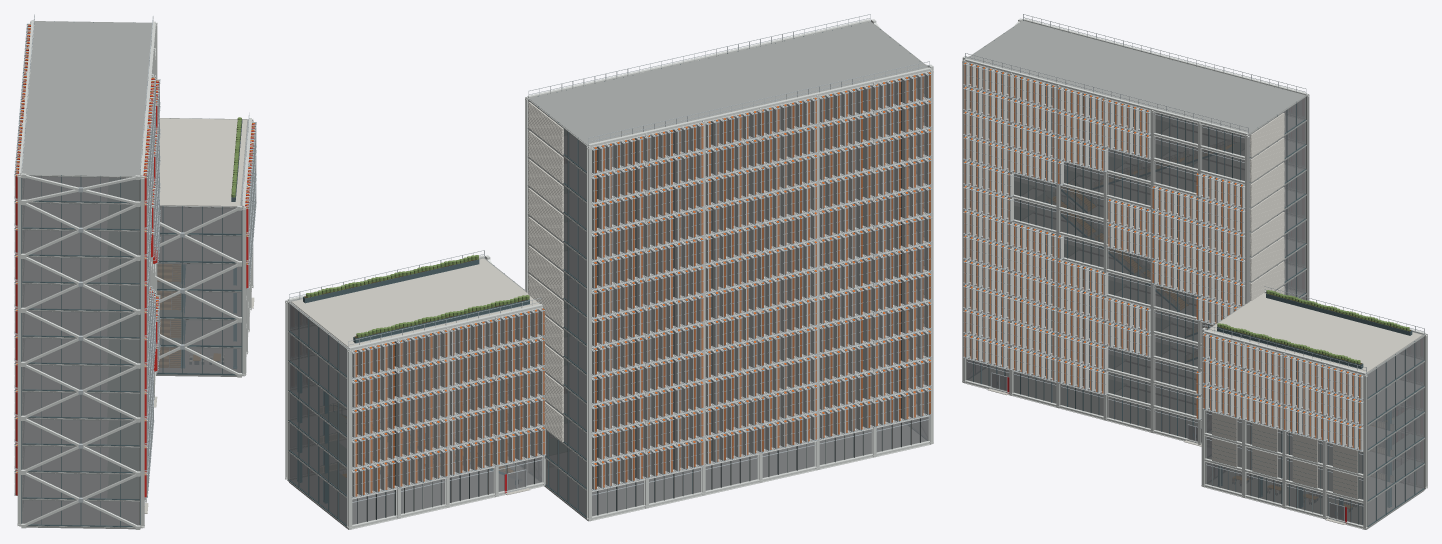
File: cbg-exterior-33d4d6fa99da.glb
3 renders of one model, left to right at view 1: azimuth 30°, elevation 25°; view 2: azimuth 150°, elevation 25°; view 3: azimuth 270°, elevation 25°, orthographic. The views are drawn at different scales.
Visible parts, largest first — view 1: CBG.001; view 2: CBG.001; view 3: CBG.001.
Boxes of the visible parts, <box> form: CBG.001: <box>14,14,256,529</box>; CBG.001: <box>285,14,933,529</box>; CBG.001: <box>962,14,1427,529</box>.
Bounding box in the file's own units: 66.1 × 53.56 × 68.49.
